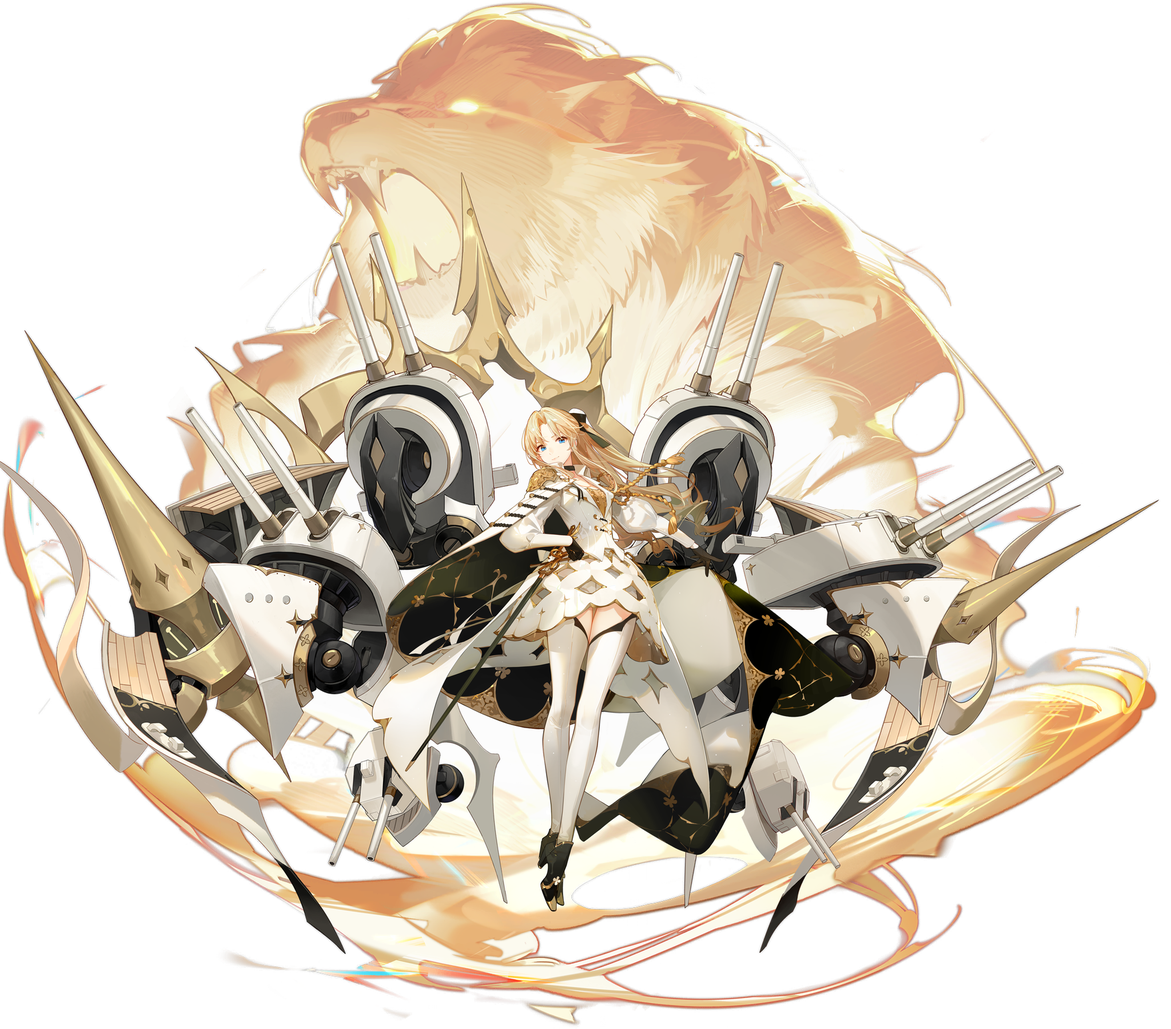person: (261, 7, 957, 999)
